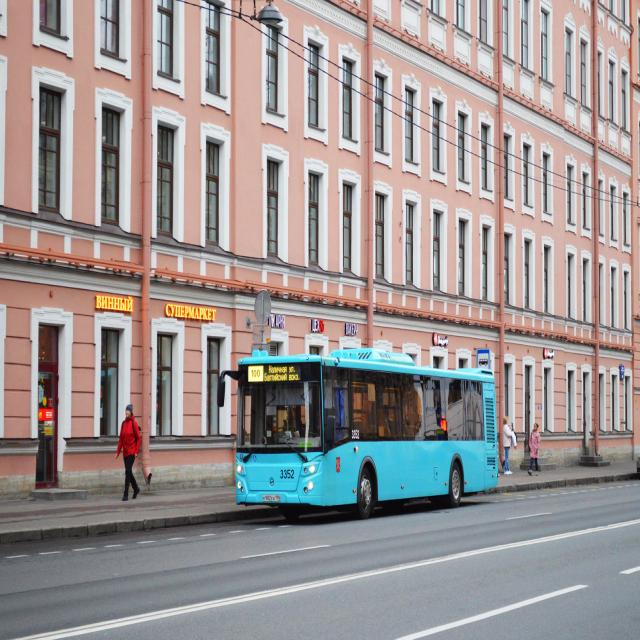number-of-bus: (250, 368, 264, 380)
